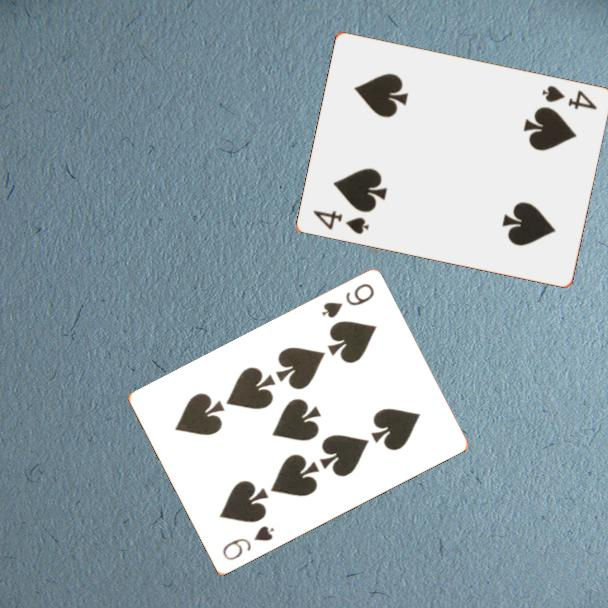s04: (310, 206, 372, 237), (539, 82, 600, 112)
s09: (318, 280, 377, 321), (219, 523, 277, 564)
